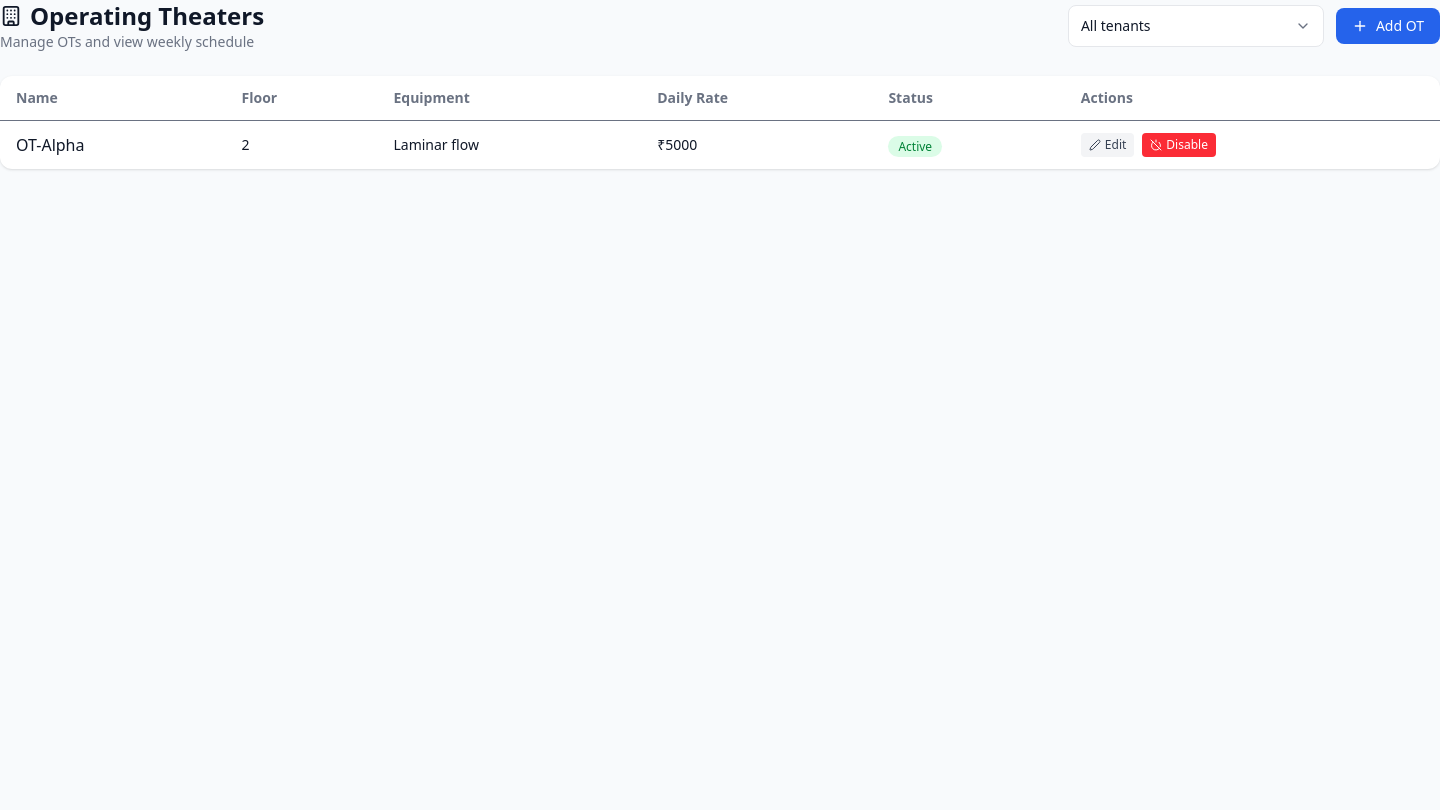
OT (Operating Theatres) dashboard page › Cancel closes the modal without firing api.post / api.patch
expect the text "OT-Alpha" is shown: met, box [0, 120, 226, 169]
Click the button "Add OT". click: (1388, 26)
box: [1336, 8, 1439, 44]
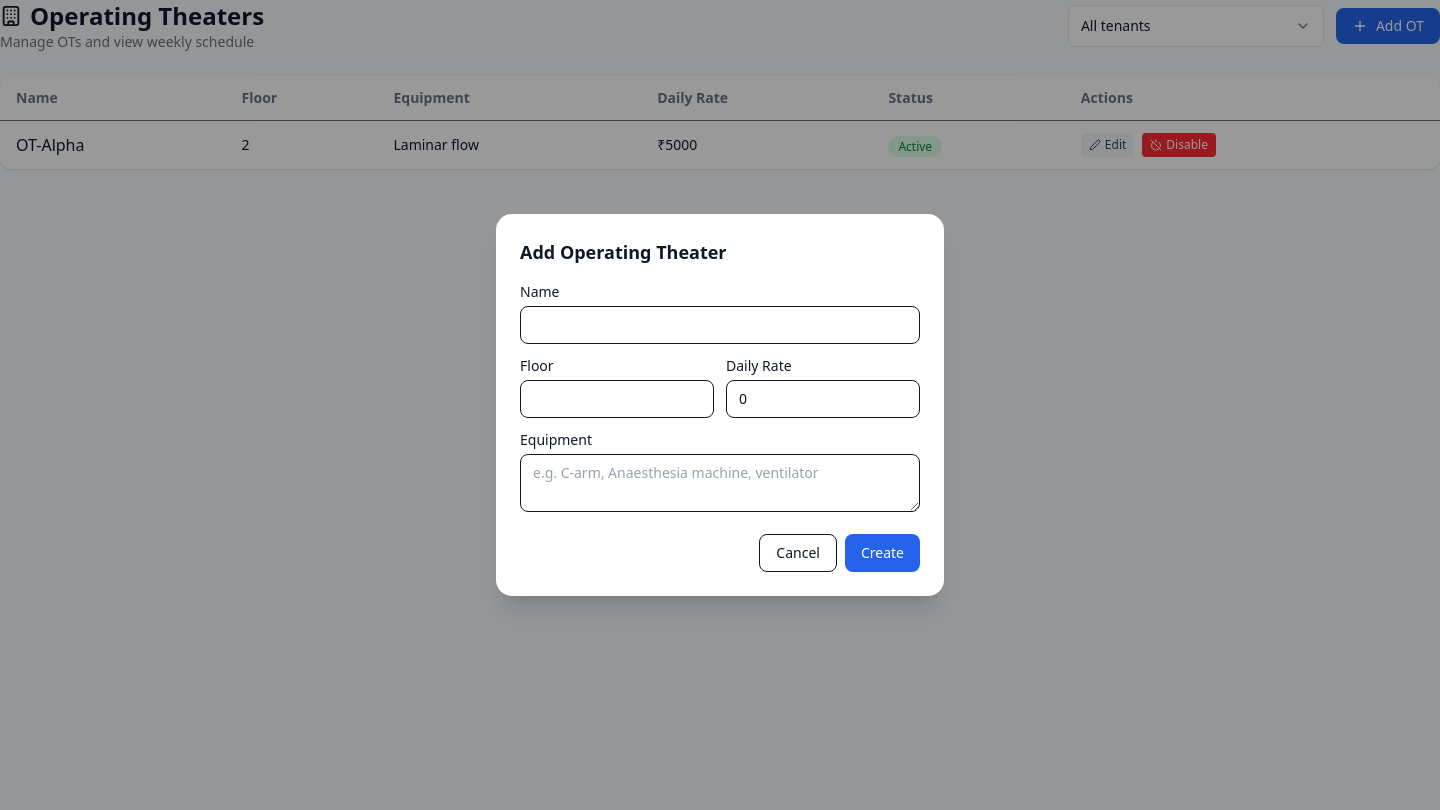
expect the heading "Add Operating Theater" is shown: met, box [520, 240, 726, 264]
Click the button "Cancel". click: (798, 553)
box: [759, 534, 837, 572]
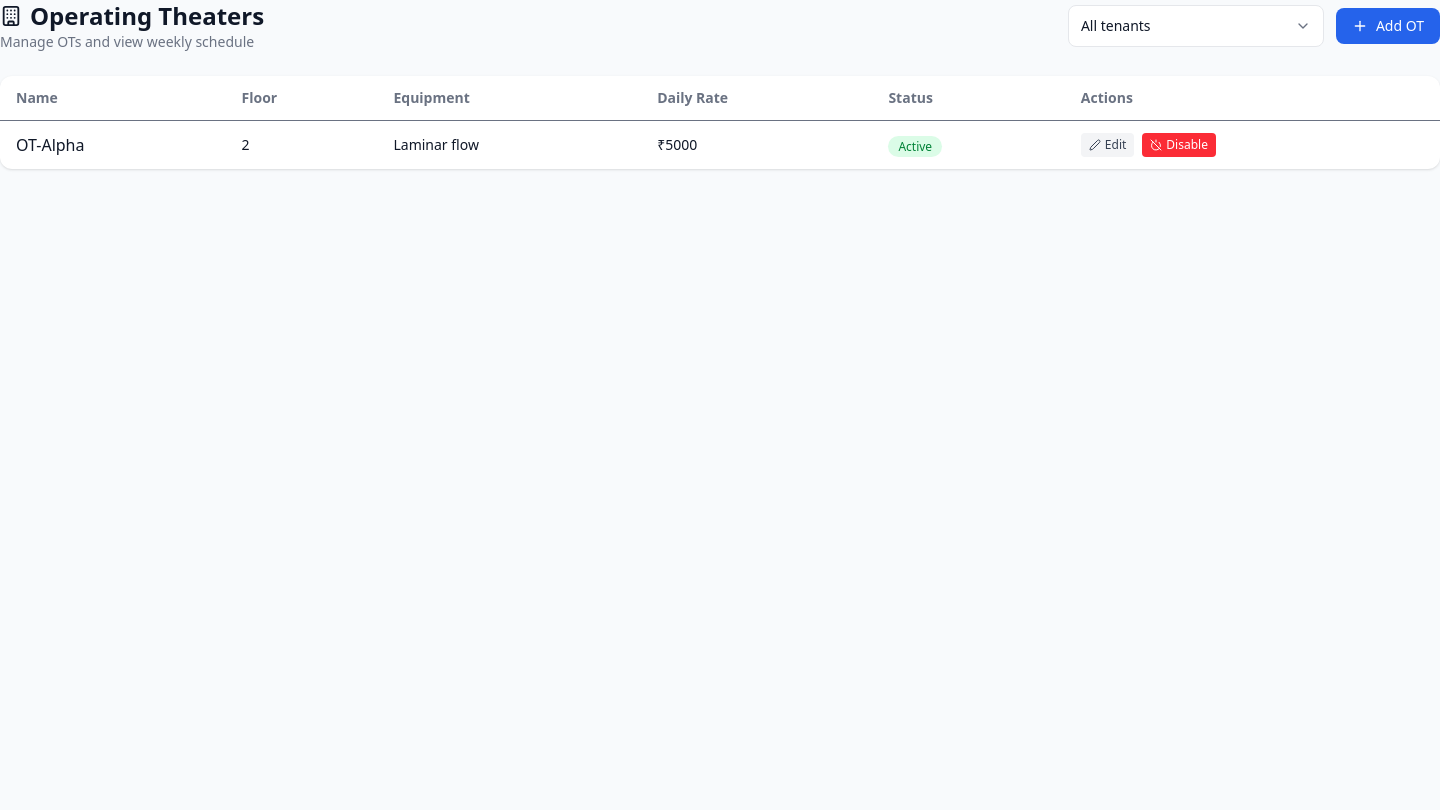
expect the heading "Add Operating Theater" is gone: met
